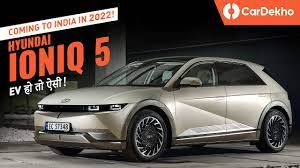Honda Ioniq: (28, 54, 294, 159)
